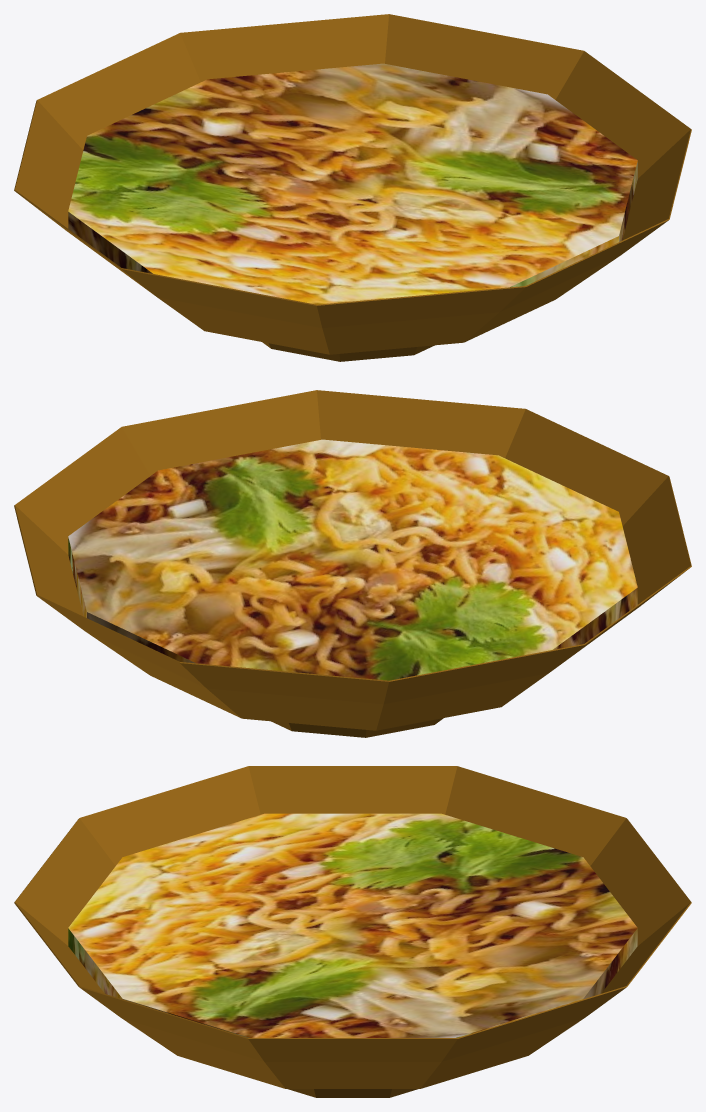
The model's file is mangkok+mie_test.fbx.
3 renders of one model, top to bottom at view 1: azimuth 30°, elevation 25°; view 2: azimuth 150°, elevation 25°; view 3: azimuth 270°, elevation 25°, orthographic. The views are drawn at different scales.
Parts seen in each view (by area): view 1: isi mie, mangkok; view 2: isi mie, mangkok; view 3: isi mie, mangkok.
Boxes of the visible parts, x1,y1,x2,y2 form: isi mie: [68, 63, 637, 304]; mangkok: [14, 14, 691, 361]; isi mie: [68, 439, 637, 680]; mangkok: [14, 390, 691, 737]; isi mie: [68, 813, 637, 1037]; mangkok: [14, 766, 691, 1097].
Size of the model in its own units: 540 by 137 by 568.
